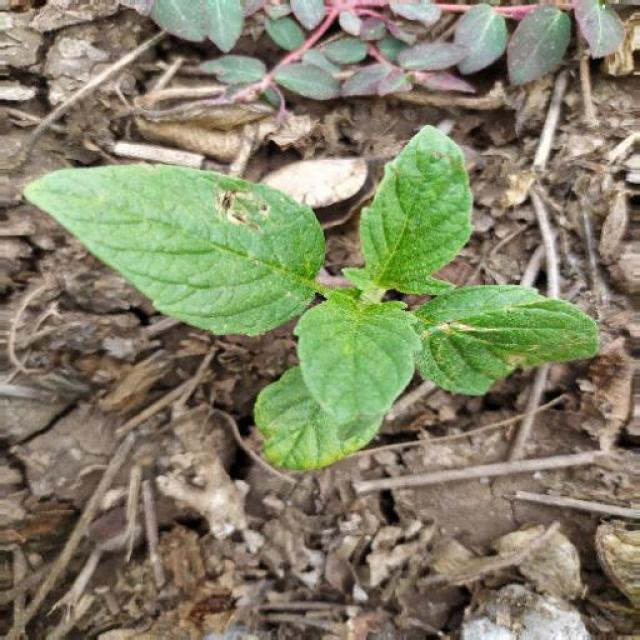crop: (20, 125, 606, 470)
